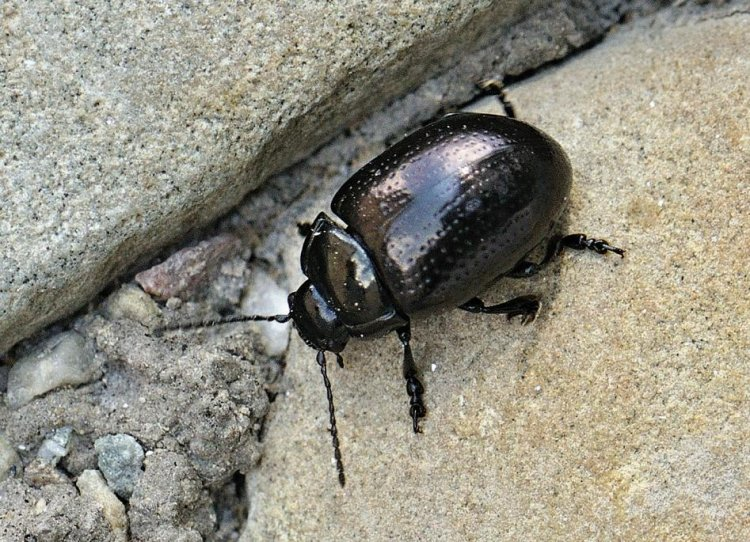Chrysolina_oricalcia: (141, 70, 628, 493)
